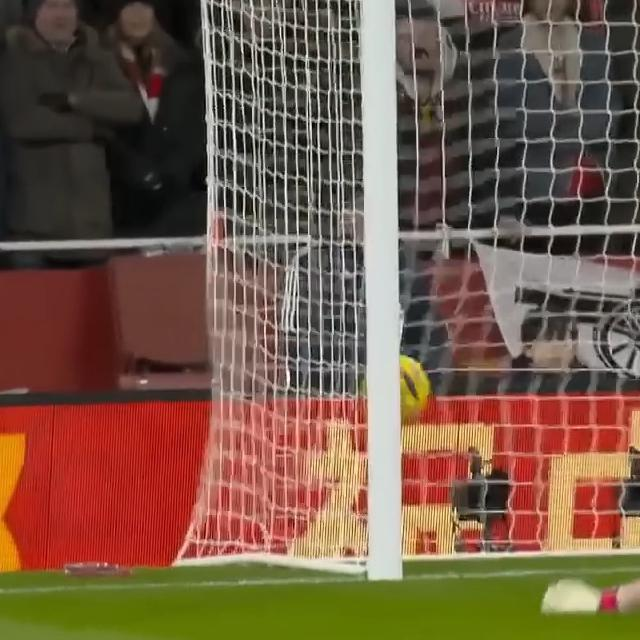ball: (361, 354, 429, 426)
